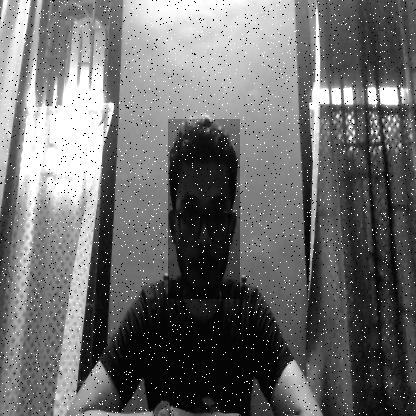Normal: (168, 119, 240, 299)
